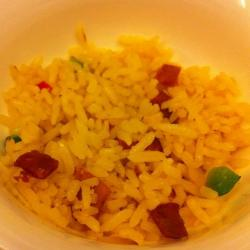rice: (29, 66, 202, 219)
